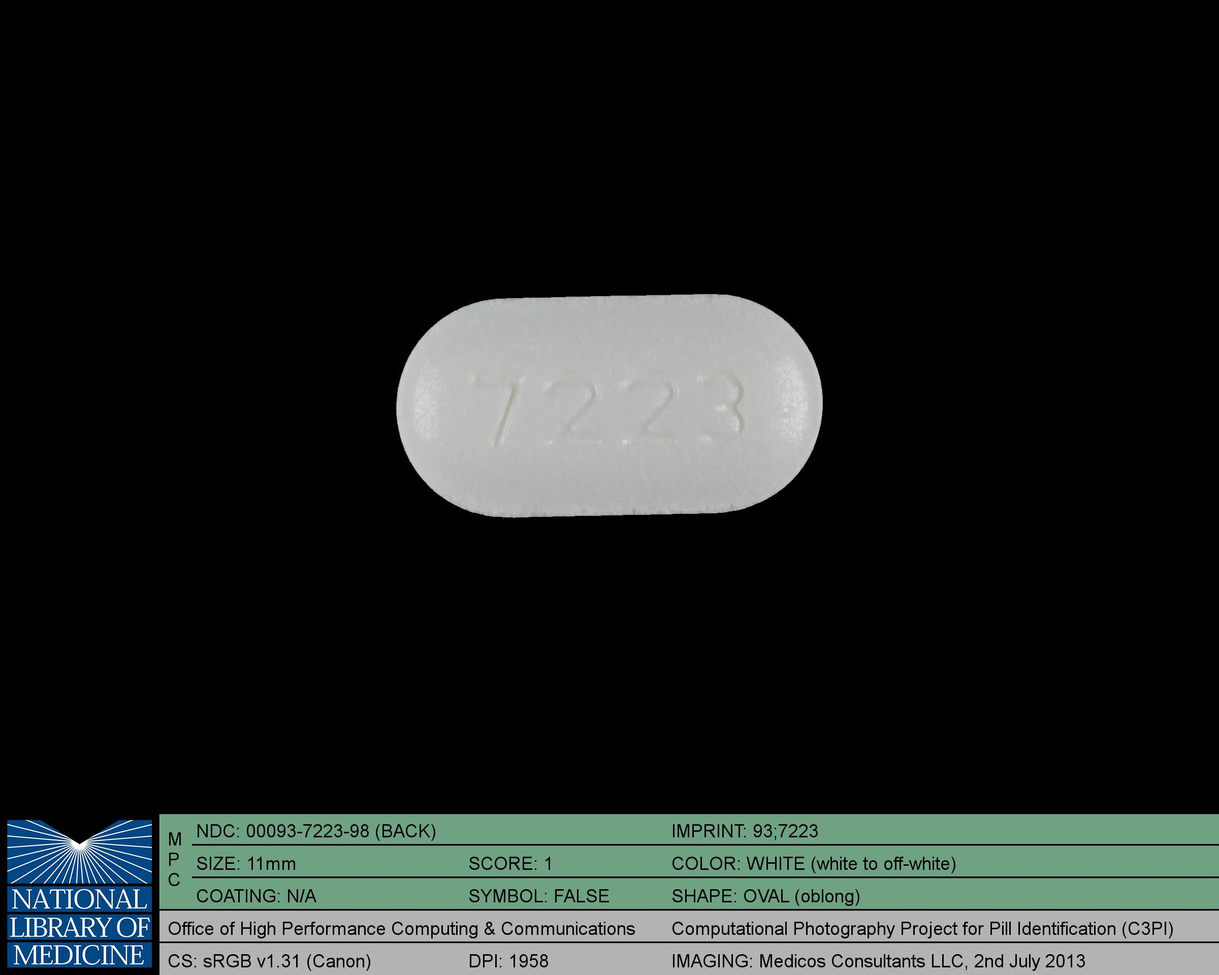Pill: (388, 283, 830, 525)
